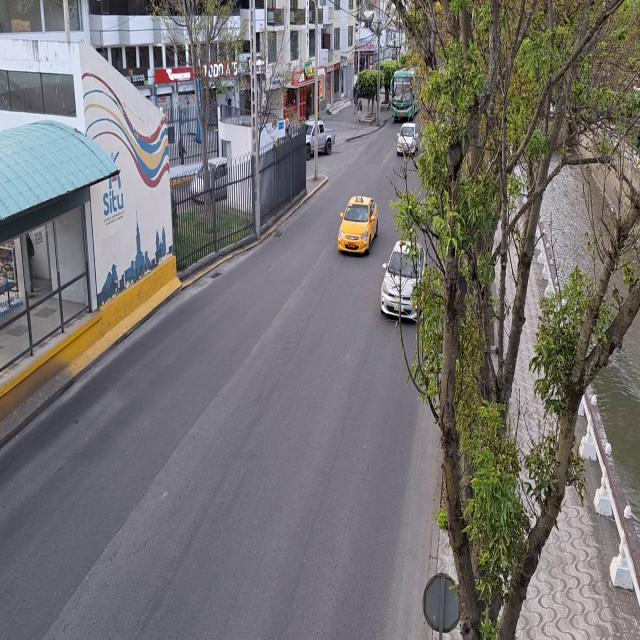BUS: (391, 72, 417, 121)
SED: (339, 197, 378, 255)
